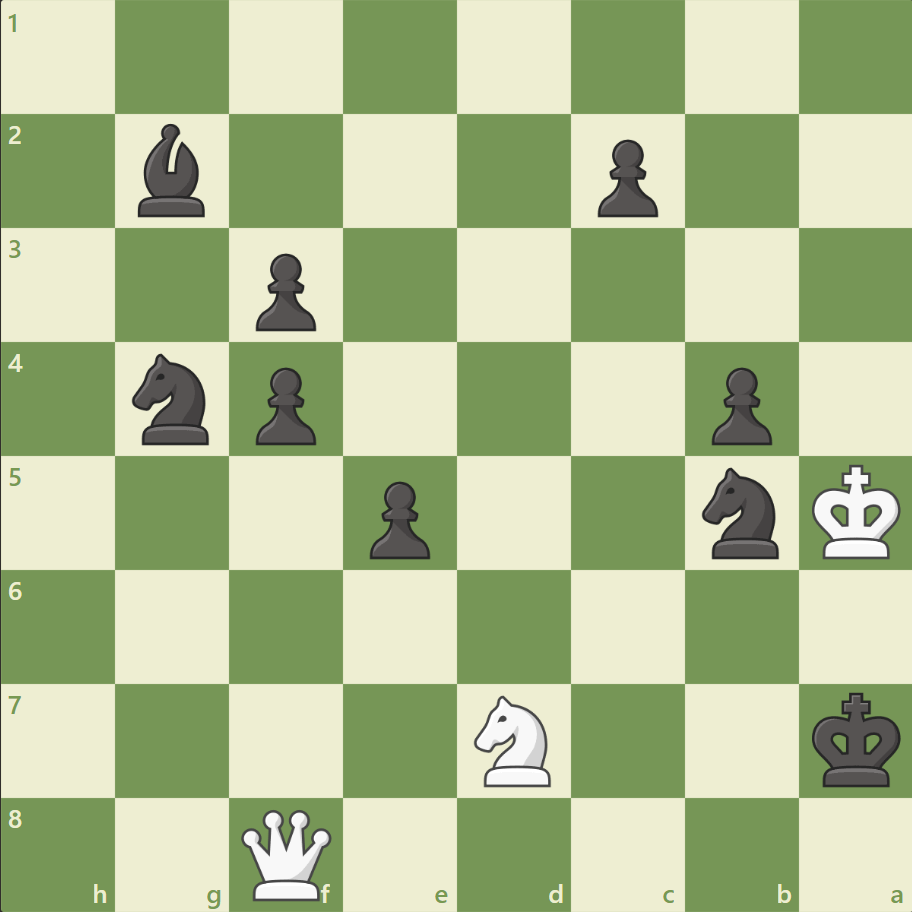K: (806, 458, 906, 566)
N: (465, 688, 562, 791)
Q: (237, 804, 336, 903)
b: (131, 120, 215, 222)
k: (806, 685, 906, 793)
n: (124, 348, 222, 450), (692, 461, 789, 564)
p: (701, 359, 776, 450), (247, 359, 322, 450), (247, 246, 322, 337), (361, 473, 435, 564), (588, 132, 662, 223)
